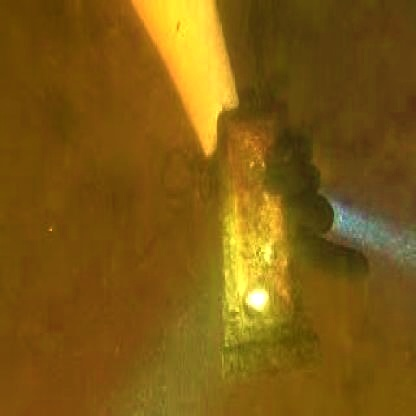cellphone: (222, 118, 295, 330)
